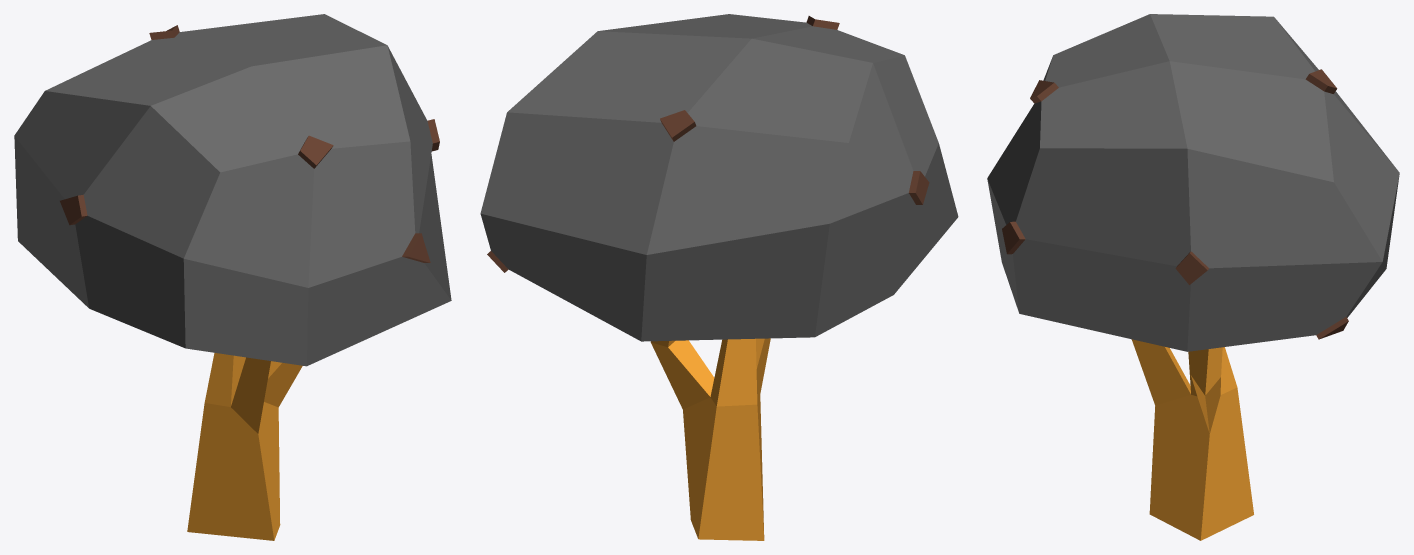
The model's file is bush_1.obj.
3 renders of one model, left to right at view 1: azimuth 30°, elevation 25°; view 2: azimuth 150°, elevation 25°; view 3: azimuth 270°, elevation 25°, orthographic. The views are drawn at different scales.
Visible parts, largest first — view 1: bush_1; view 2: bush_1; view 3: bush_1.
Boxes of the visible parts, x1,y1,x2,y2 form: bush_1: (14,14,451,540); bush_1: (480,14,958,540); bush_1: (987,14,1399,540).
Size of the model in its own units: 4.58 by 5.61 by 4.57.
